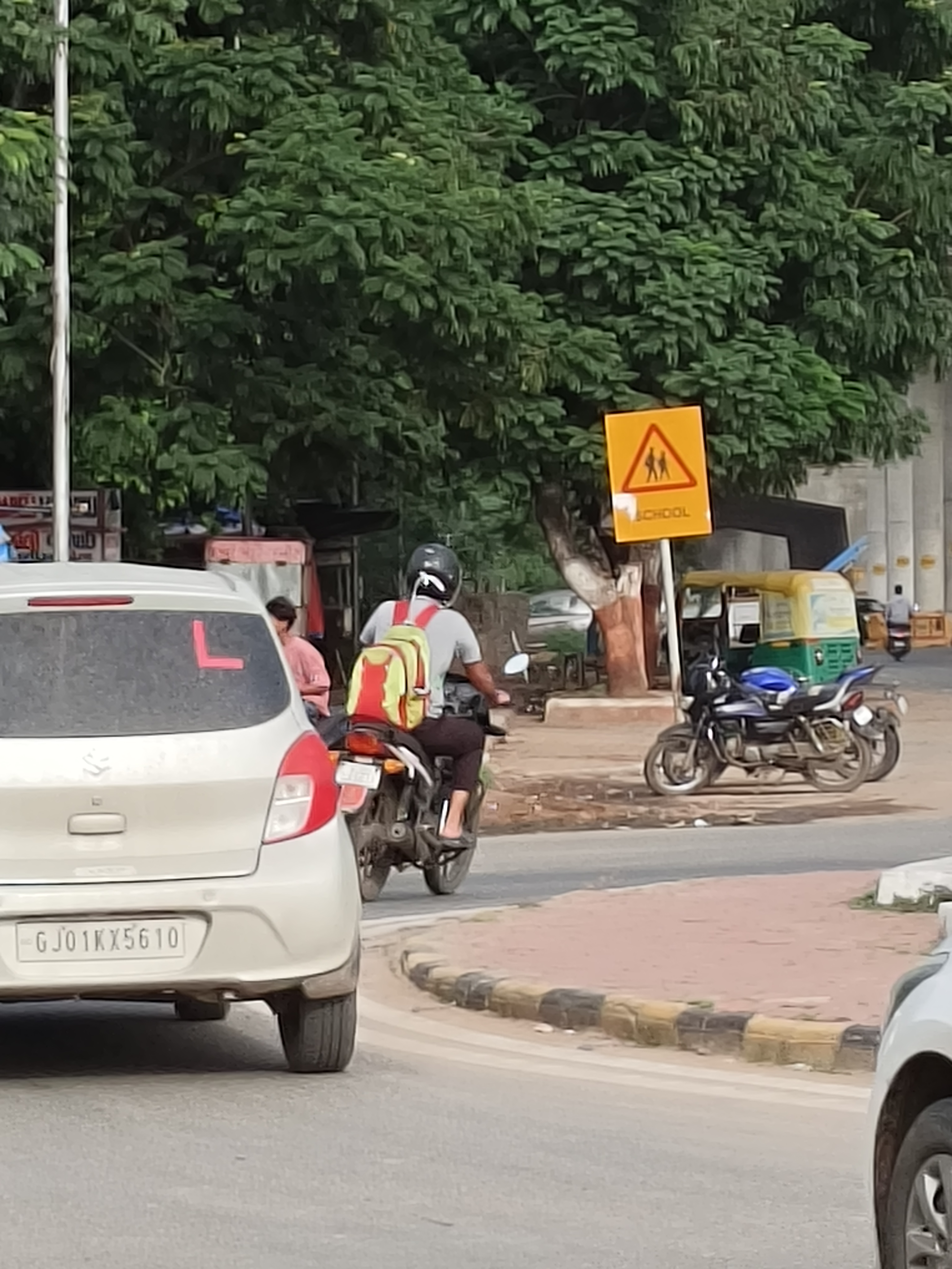BikeWithRider: (316, 531, 535, 909)
Helmet: (397, 533, 470, 612)
NoHelmet: (259, 591, 306, 642)
